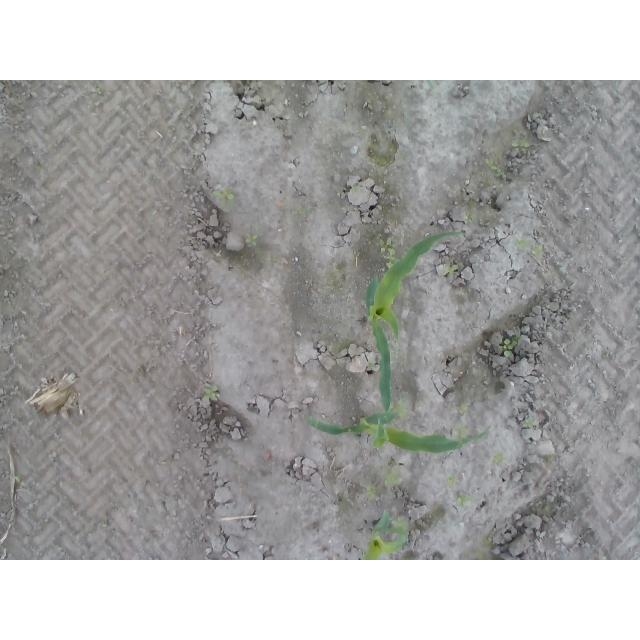Maize: (363, 230, 462, 411), (305, 412, 491, 454), (361, 509, 408, 559)
Weeds: (366, 468, 402, 497), (379, 237, 402, 268), (516, 239, 544, 258), (485, 158, 505, 178), (209, 188, 236, 200), (201, 385, 219, 402), (502, 336, 515, 357), (511, 139, 529, 154), (243, 233, 257, 248), (457, 495, 471, 510), (493, 452, 504, 464), (521, 419, 533, 429), (448, 264, 461, 273)
